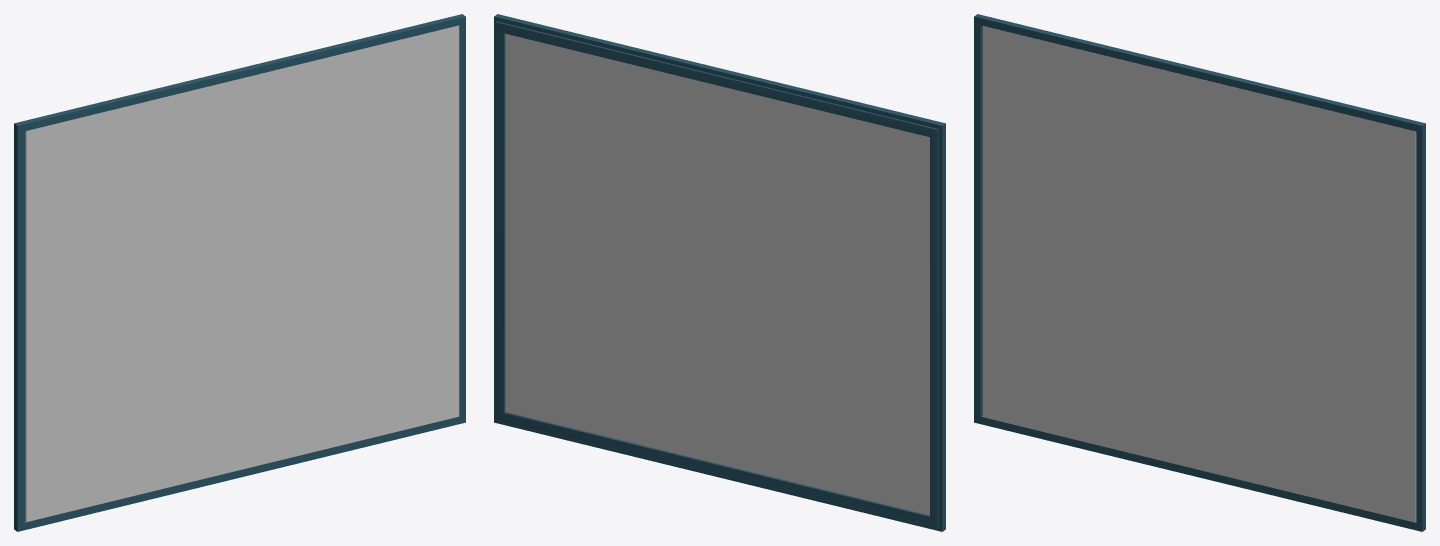
File: Window_11.7.fbx
3 views of the same model, side by side, from view 1: azimuth 30°, elevation 25°; view 2: azimuth 150°, elevation 25°; view 3: azimuth 330°, elevation 25° (orthographic).
Visible parts, largest first — view 1: Window, WindowFrame; view 2: Window, WindowFrame; view 3: Window, WindowFrame.
Boxes of the visible parts, box(x1,y1,x2,y2) form: Window: box(25, 25, 459, 522); WindowFrame: box(14, 14, 465, 531); Window: box(505, 33, 929, 515); WindowFrame: box(494, 14, 945, 531); Window: box(982, 26, 1416, 522); WindowFrame: box(974, 14, 1425, 531).
Size of the model in its own units: 510 by 441 by 9.28.
